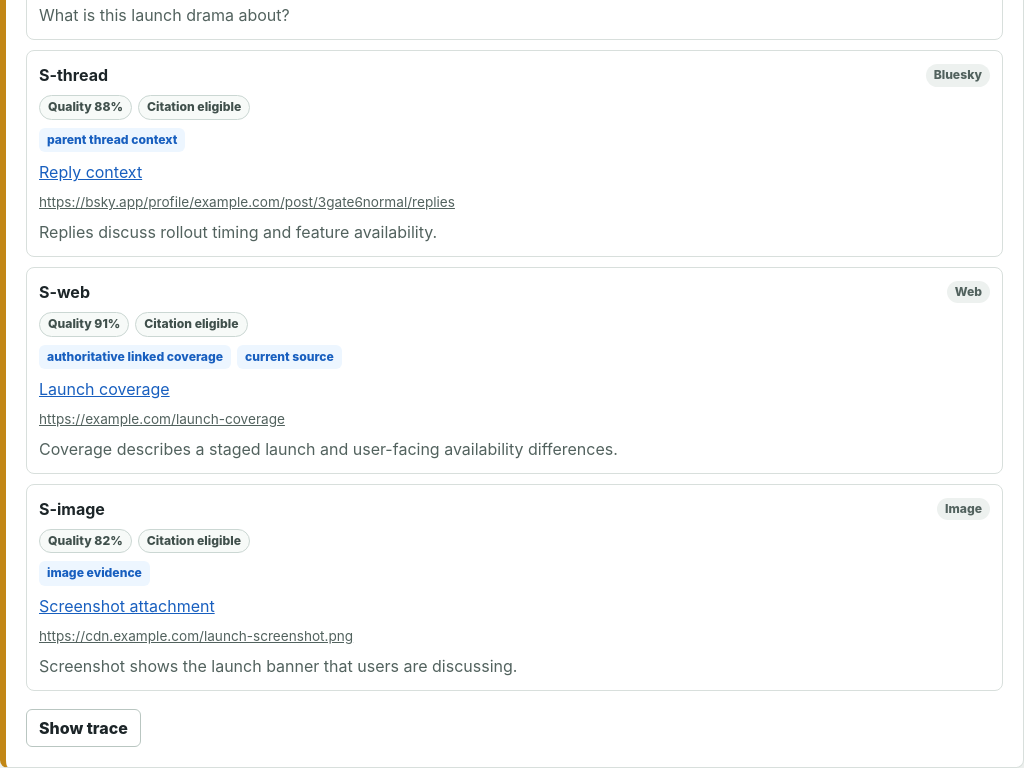
Test: trace panel exposes backend quality fields without frontend scoring
The width and height of the screenshot is (1024, 768).
(page scrolled)
Click the button "Show trace".
click(83, 728)  # box [26,709,141,747]
(page scrolled)
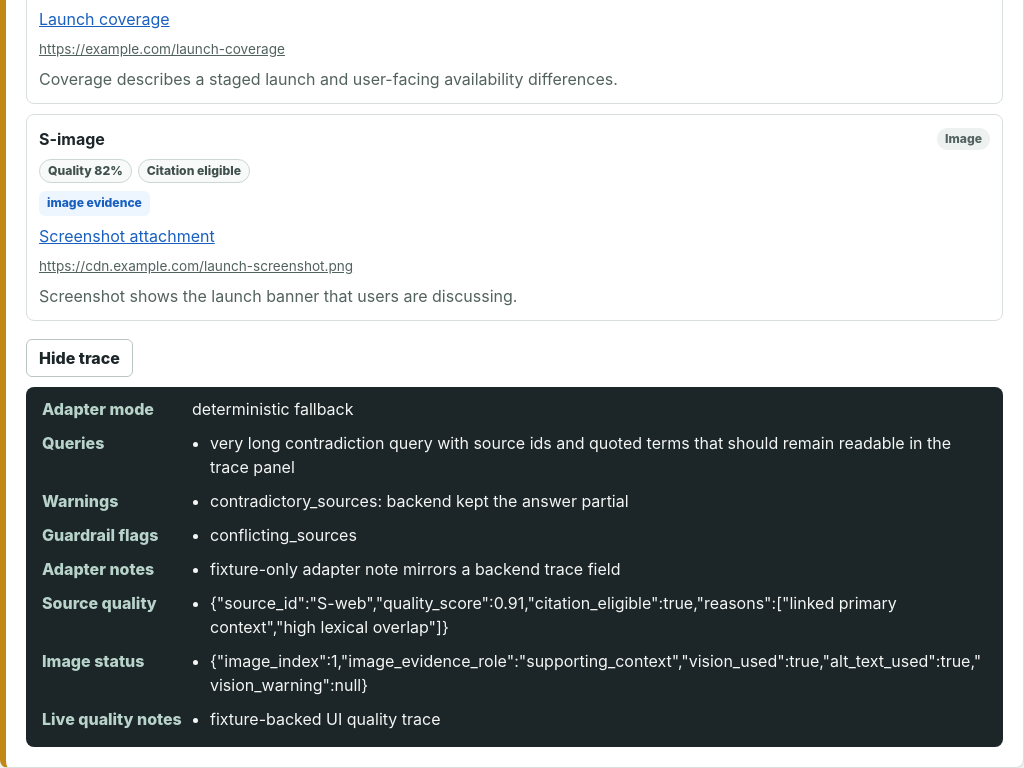
Check: the text "Adapter mode" is shown, box [42,399,154,419]
Check: the text "Queries" is shown, box [42,433,104,453]
Check: the text "Warnings" is shown, box [42,491,118,511]
